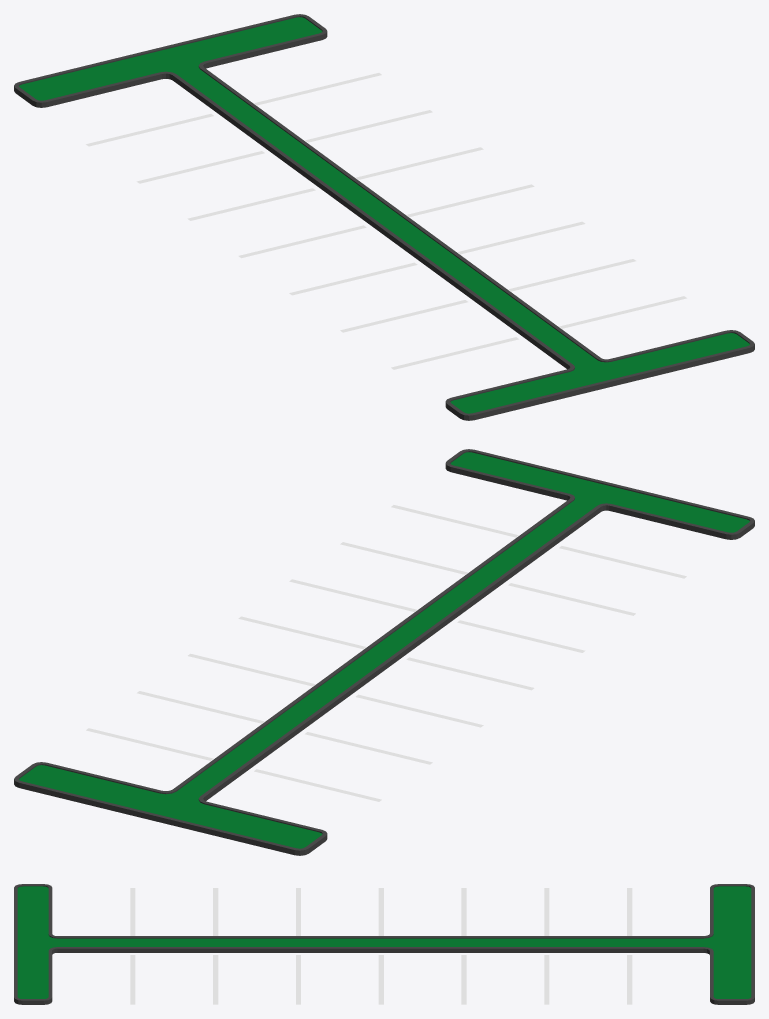
The model's file is Park-06.fbx.
3 renders of one model, top to bottom at view 1: azimuth 30°, elevation 25°; view 2: azimuth 150°, elevation 25°; view 3: azimuth 270°, elevation 25°, orthographic. The views are drawn at different scales.
Visible parts, largest first — view 1: Park-06; view 2: Park-06; view 3: Park-06.
Boxes of the visible parts, x1=… form: Park-06: x1=14, y1=14, x2=754, y2=420; Park-06: x1=14, y1=449, x2=754, y2=855; Park-06: x1=14, y1=884, x2=754, y2=1004.
Size of what is drawn, in the model's own units: 11.67 by 0.2 by 31.33.
